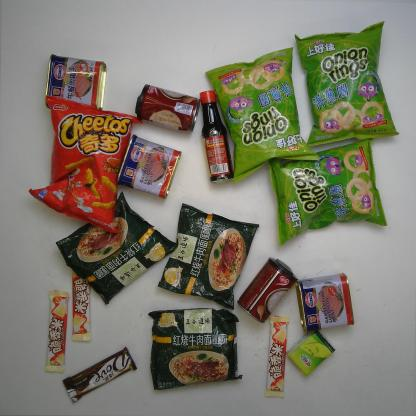Canned Food: (117, 134, 182, 200), (237, 256, 298, 324), (294, 272, 354, 334), (45, 53, 107, 111), (136, 81, 200, 132)
Chocolate: (62, 346, 138, 404), (44, 289, 70, 374), (265, 315, 290, 398), (71, 265, 92, 341)
Instant Noodles: (56, 190, 178, 305), (156, 202, 260, 312), (147, 308, 244, 390)
Puffed Food: (28, 94, 144, 234), (204, 45, 320, 184), (294, 18, 399, 148), (268, 139, 388, 246)
Seasoner: (200, 89, 236, 185)
Tissue: (286, 330, 336, 377)
